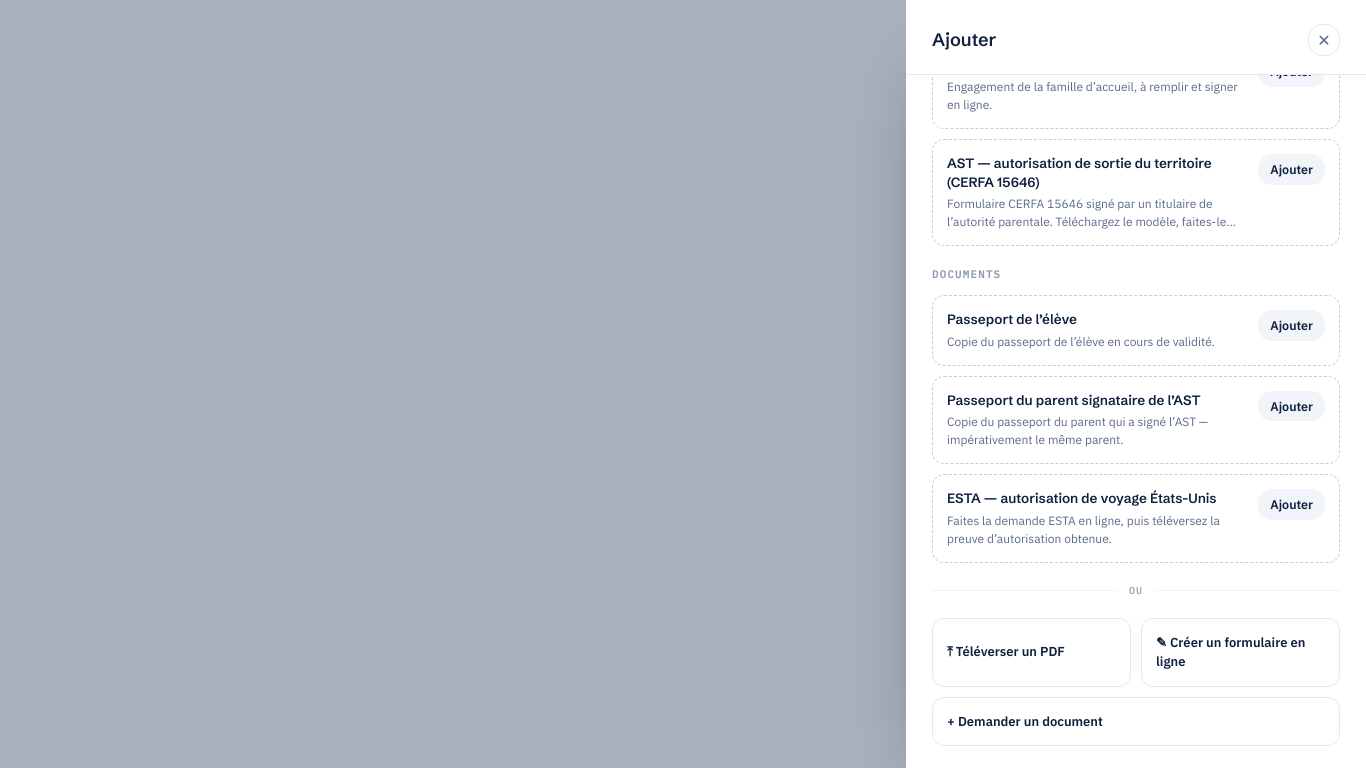
Test: LibraryDrawer › disables the submit button for an empty conditional document and enables it once a student is checked
(page scrolled)
Click the button "+ Demander un document".
click(1030, 721)  # box [932,697,1340,746]
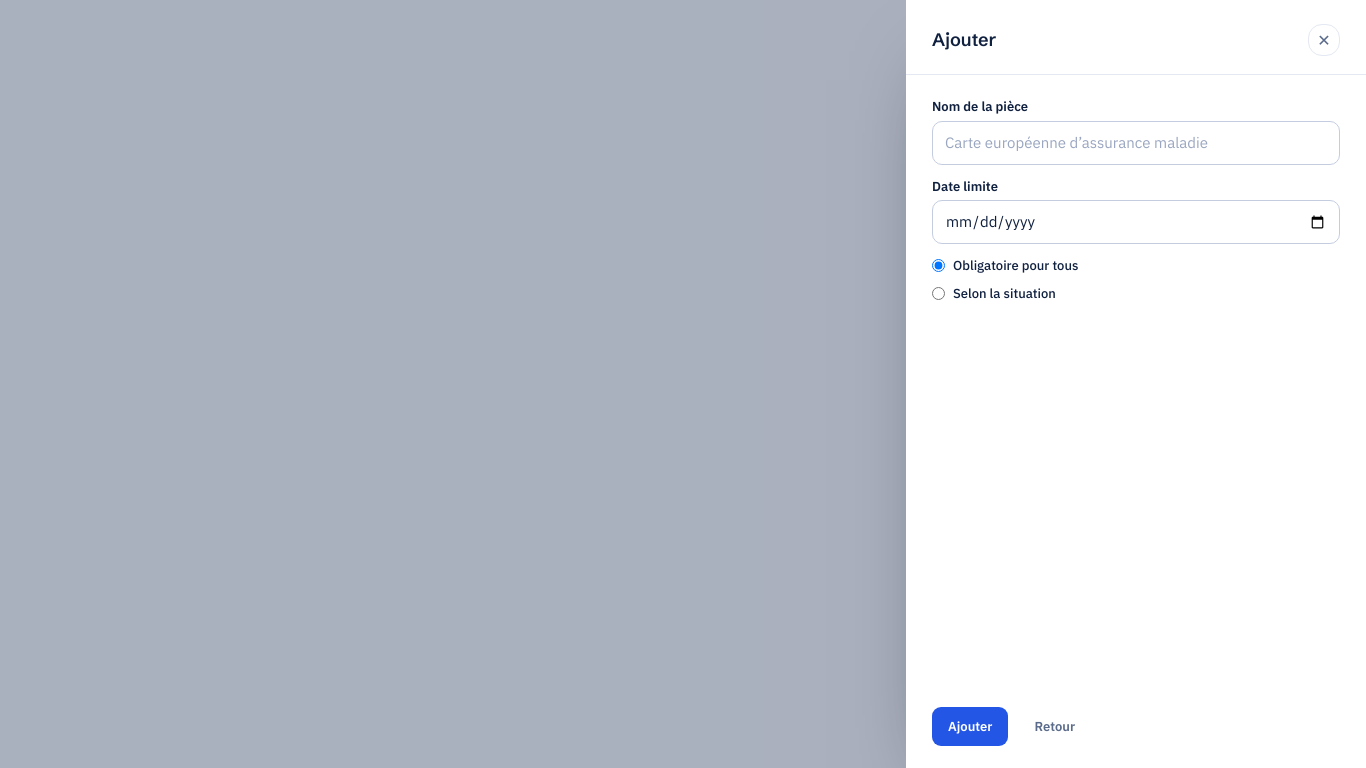
Type "CEAM" into the field labelled "Nom de la pièce".
click(1136, 142); type("CEAM")  # box [932,120,1340,164]
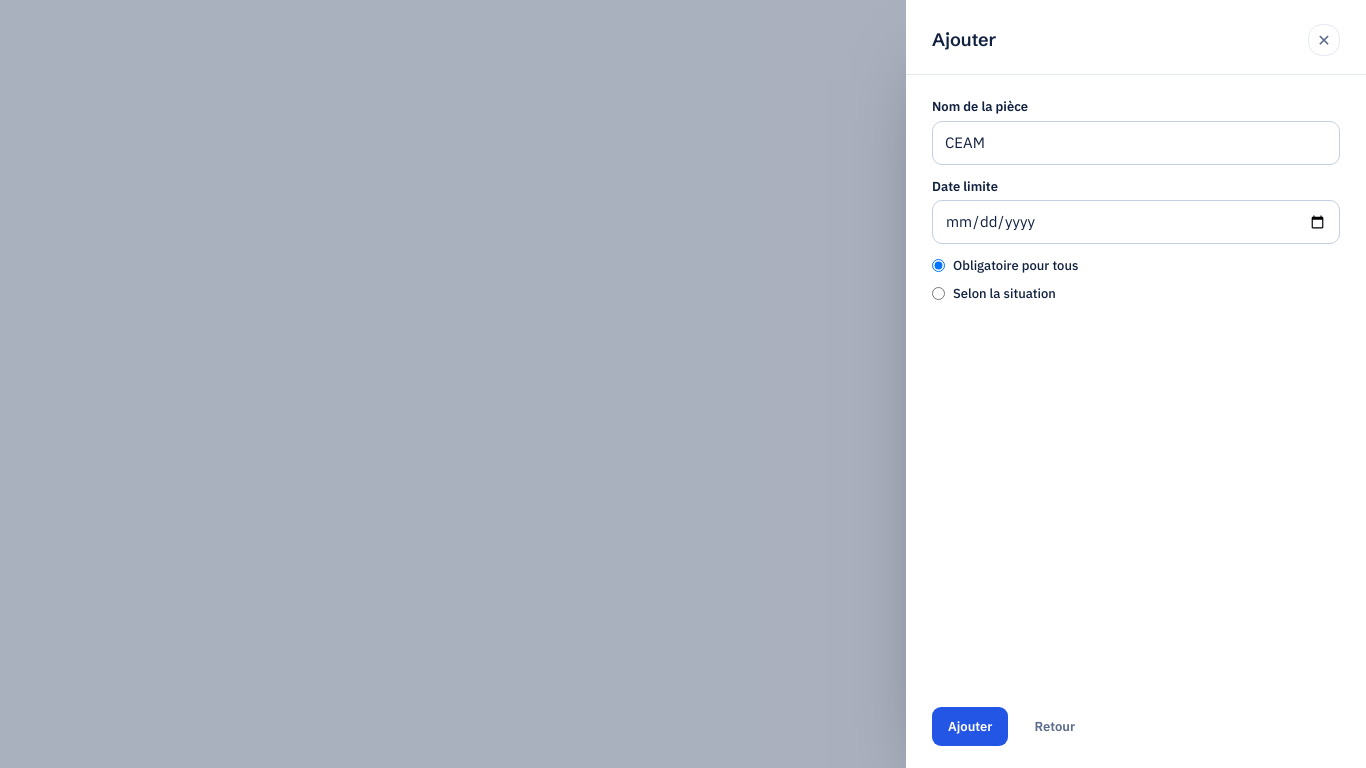
Type "2026-09-30" into the date field labelled "Date limite".
click(1136, 222); type("2026-09-30")  # box [932,200,1340,244]
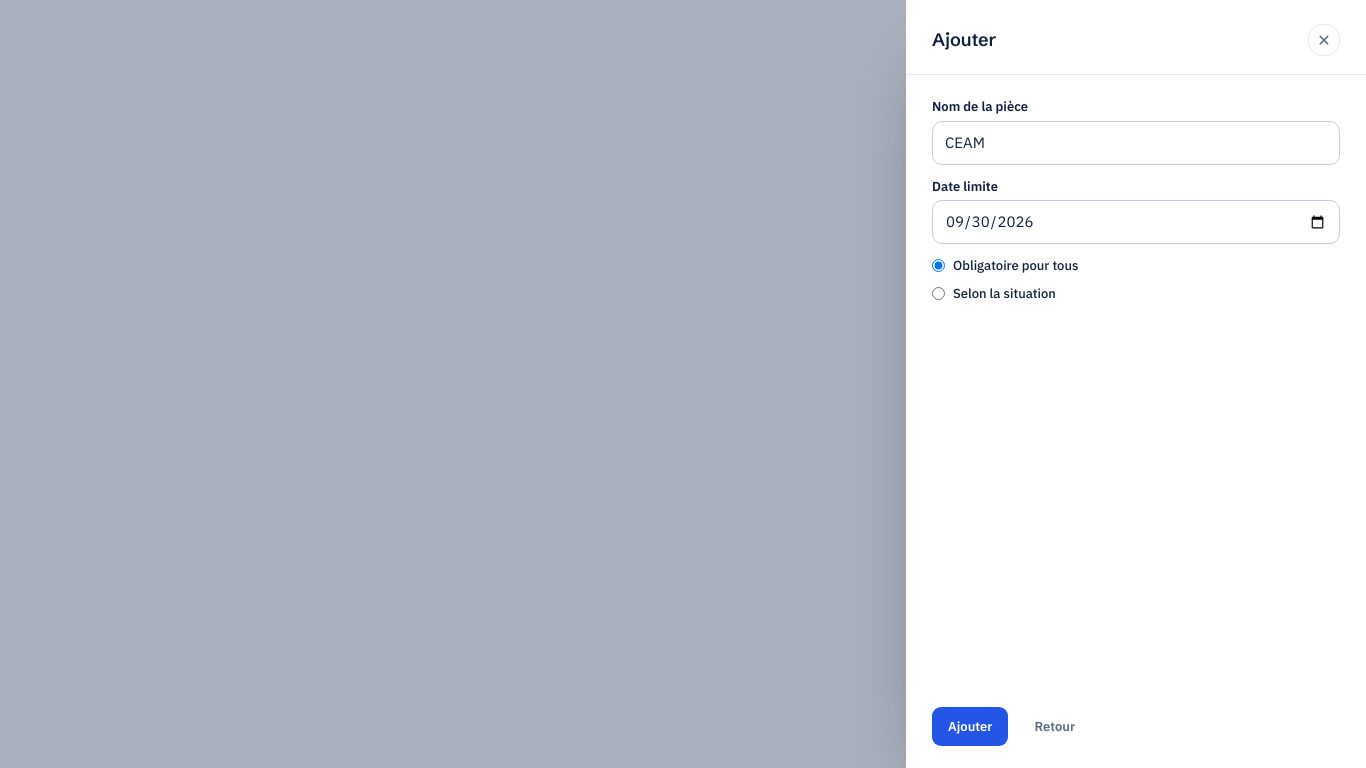
Click the radio button labelled "Selon la situation".
click(938, 293)  # box [932,287,945,300]
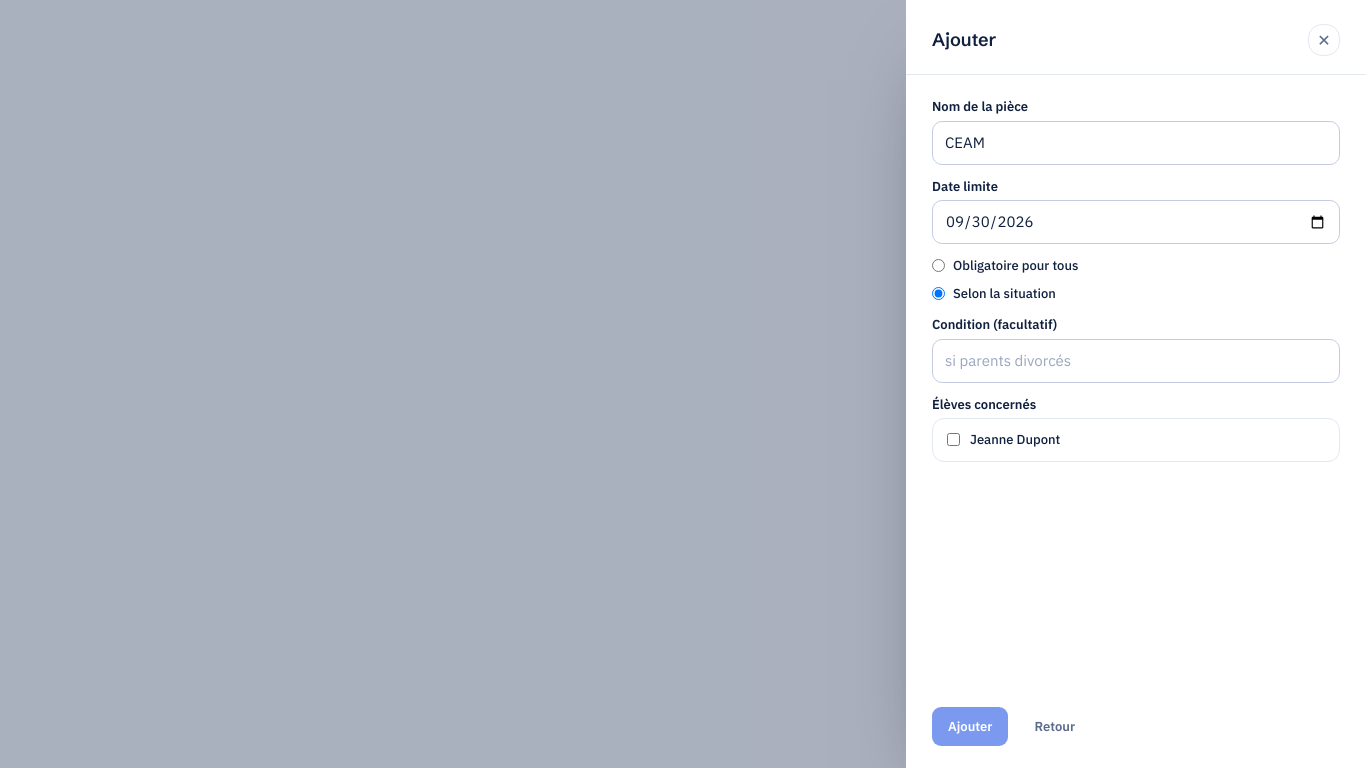
Expected: the button "Ajouter" is disabled, [932,706,1008,746]
Click the checkbox labelled "Jeanne Dupont".
click(954, 440)  # box [947,433,960,446]
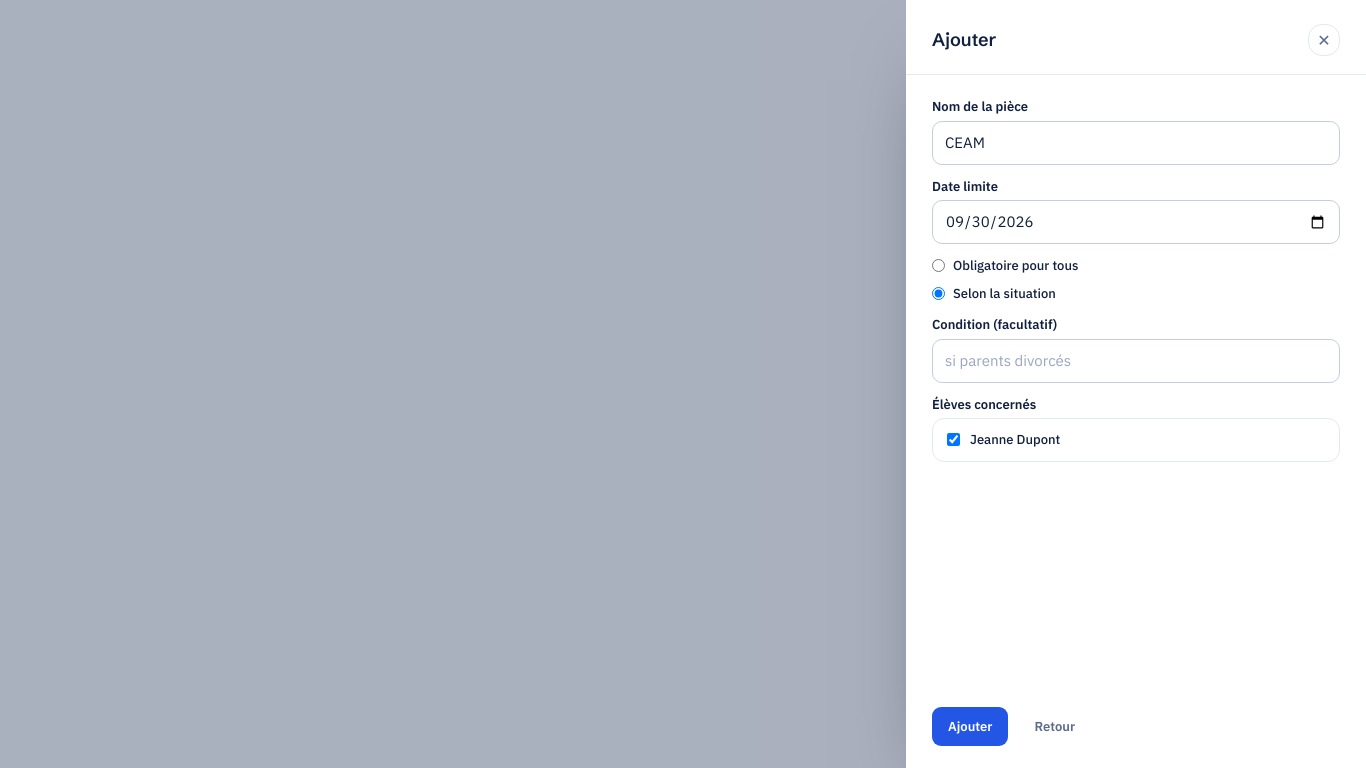
Expected: the button "Ajouter" is enabled, [932,706,1008,746]
